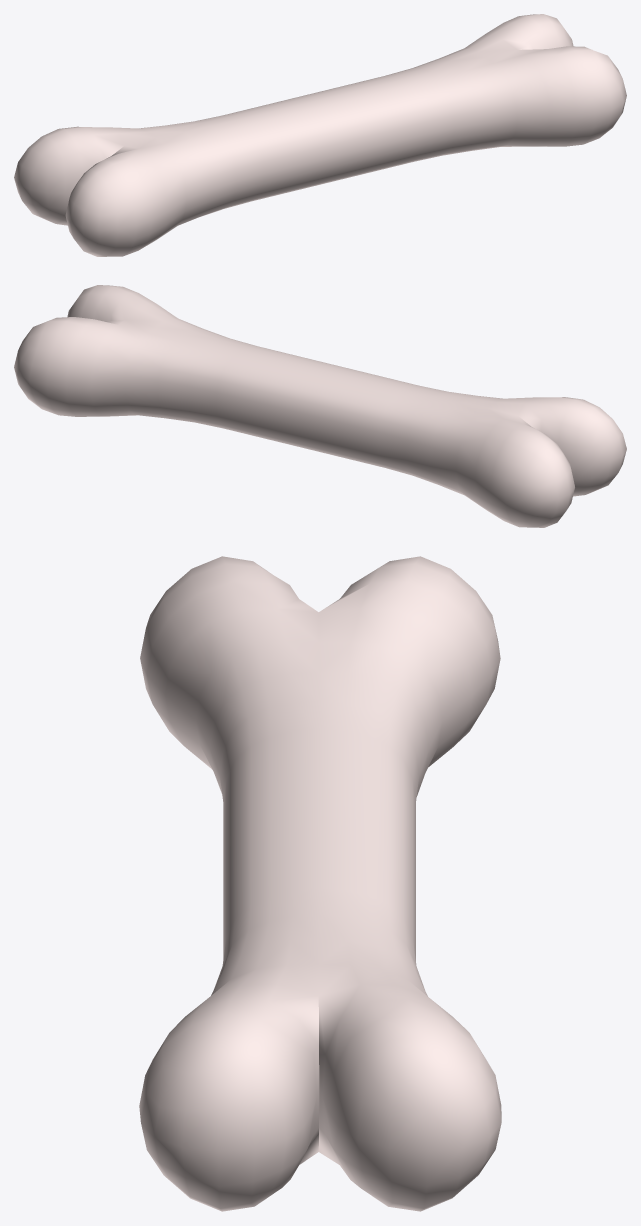
Rendered from Isl_1_Bone_1.fbx.
The picture shows the model from 3 angles, top to bottom: view 1: azimuth 30°, elevation 25°; view 2: azimuth 150°, elevation 25°; view 3: azimuth 270°, elevation 25°; orthographic projection. The views are drawn at different scales.
Visible parts, largest first — view 1: Isl_1_Bone_1; view 2: Isl_1_Bone_1; view 3: Isl_1_Bone_1.
Boxes of the visible parts, box(x1,y1,x2,y2) form: Isl_1_Bone_1: box(14, 14, 626, 256); Isl_1_Bone_1: box(14, 285, 626, 527); Isl_1_Bone_1: box(139, 556, 501, 1211).
Size of the model in its own units: 177 by 28.52 by 50.22.
